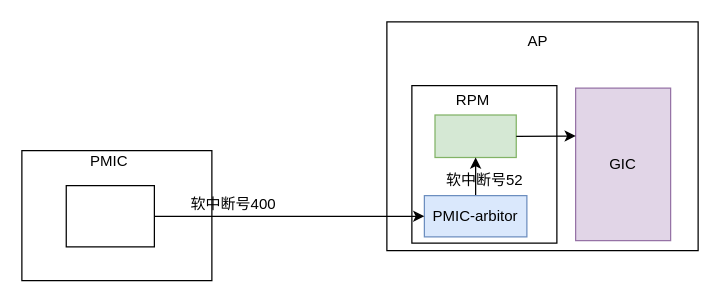
Some shapes in this 720 by 303 pixel diagram are drawn without their labels. Here are the shapes that lost their labels. From the top down, the centre of each, then its label:
At pixel 475 136: "PDC".
At pixel 109 215: "RTC".
